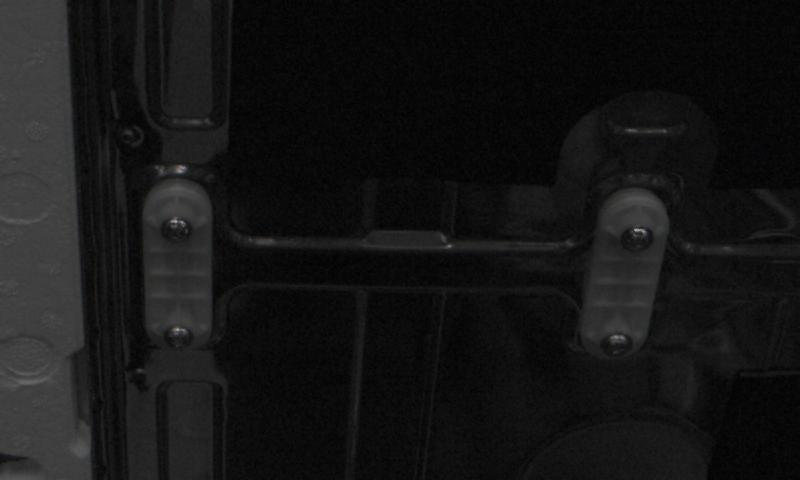vida-ok: (615, 218, 659, 257), (153, 216, 192, 255), (596, 331, 635, 370), (157, 321, 195, 356)
